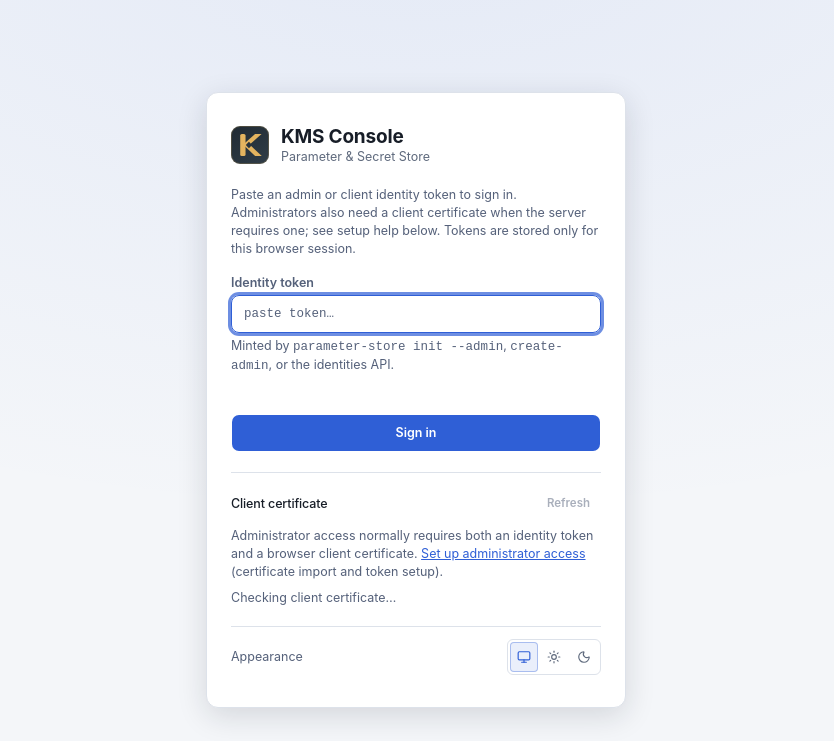
Scenario: LoginPage › explains a starting or sealed server on 503 instead of blaming the token
In the password field labelled "Identity token": (416, 314) x1=231 y1=295 x2=601 y2=333, type "kms_admin_token"
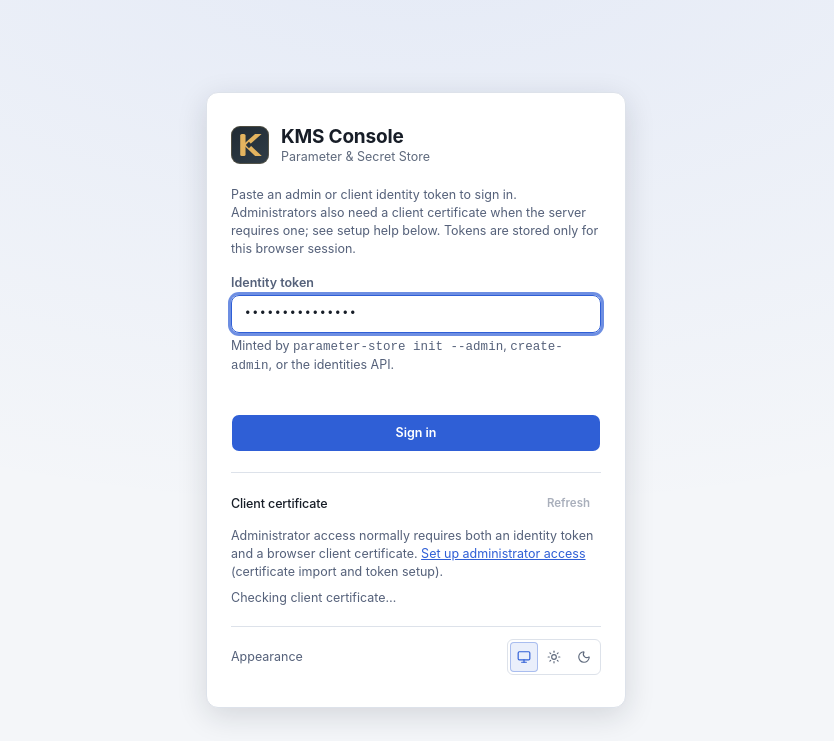
Click the button named "Sign in" below ", or the identities API.": (416, 433) x1=231 y1=414 x2=601 y2=452
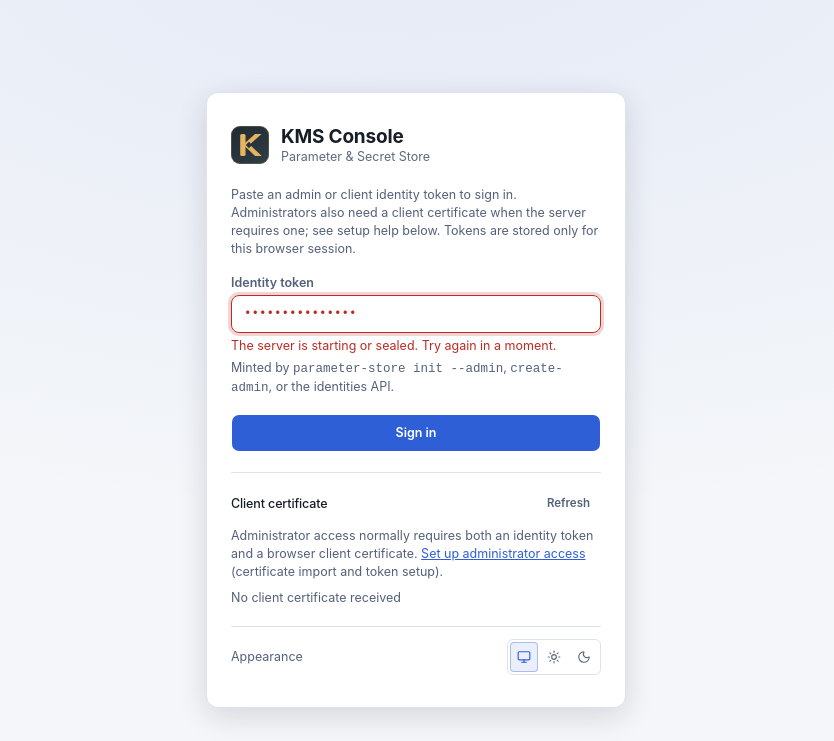
Expected: the message "The server is starting or sealed. Try again in a moment." is shown, x1=231 y1=337 x2=601 y2=354
